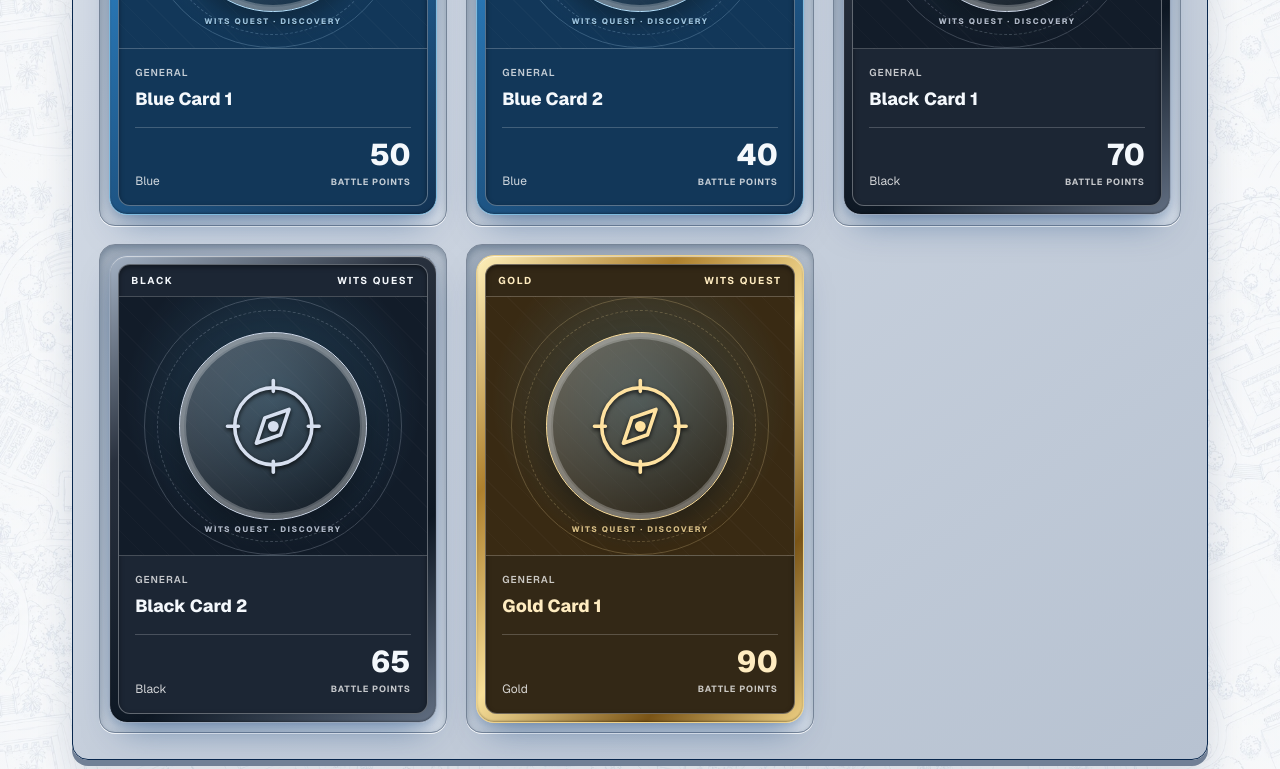
Test: handles matchmaking errors gracefully when start fails
(page scrolled)
Expected: the heading "Gold Card 1" is shown, [502,594,602,617]
Step 1. Click the button "Gold Card 1" → (640, 489), box [476,255,804,722]
(page scrolled)
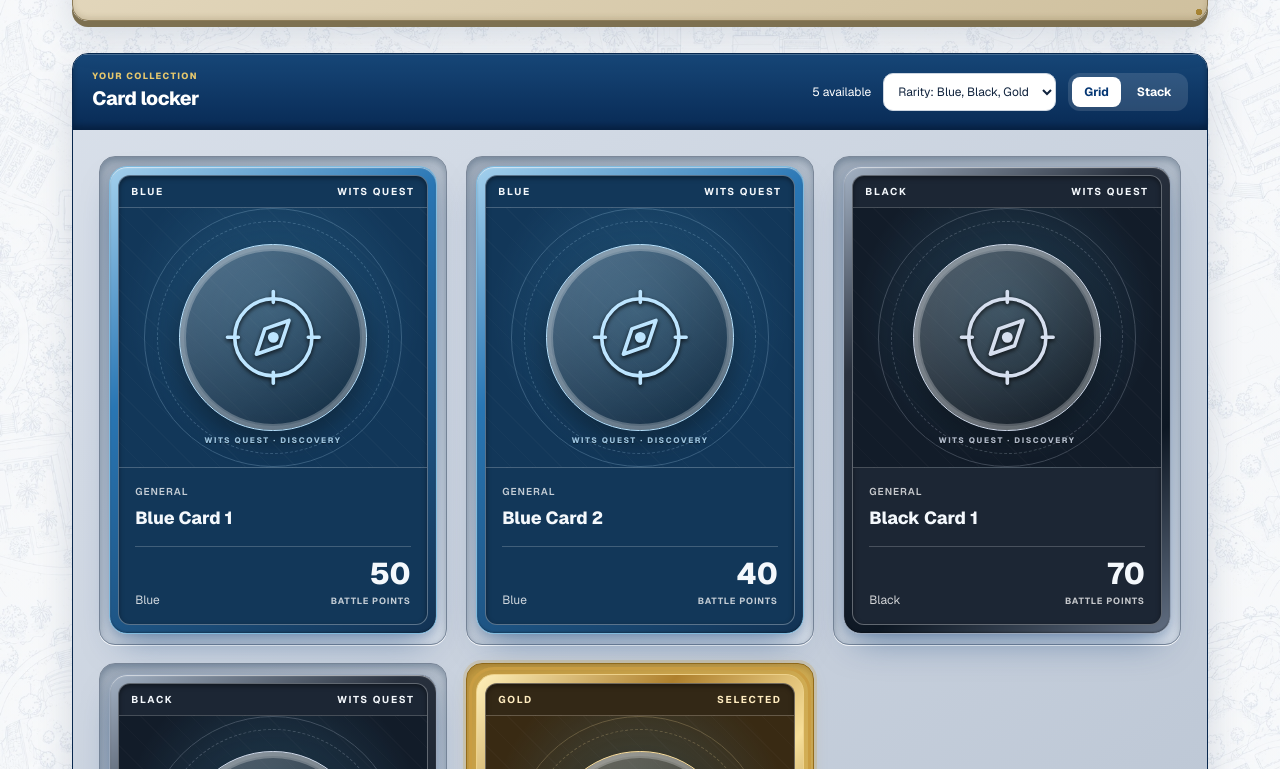
Step 2. Click the button "Black Card 1" → (1007, 400), box [843,166,1171,634]
(page scrolled)
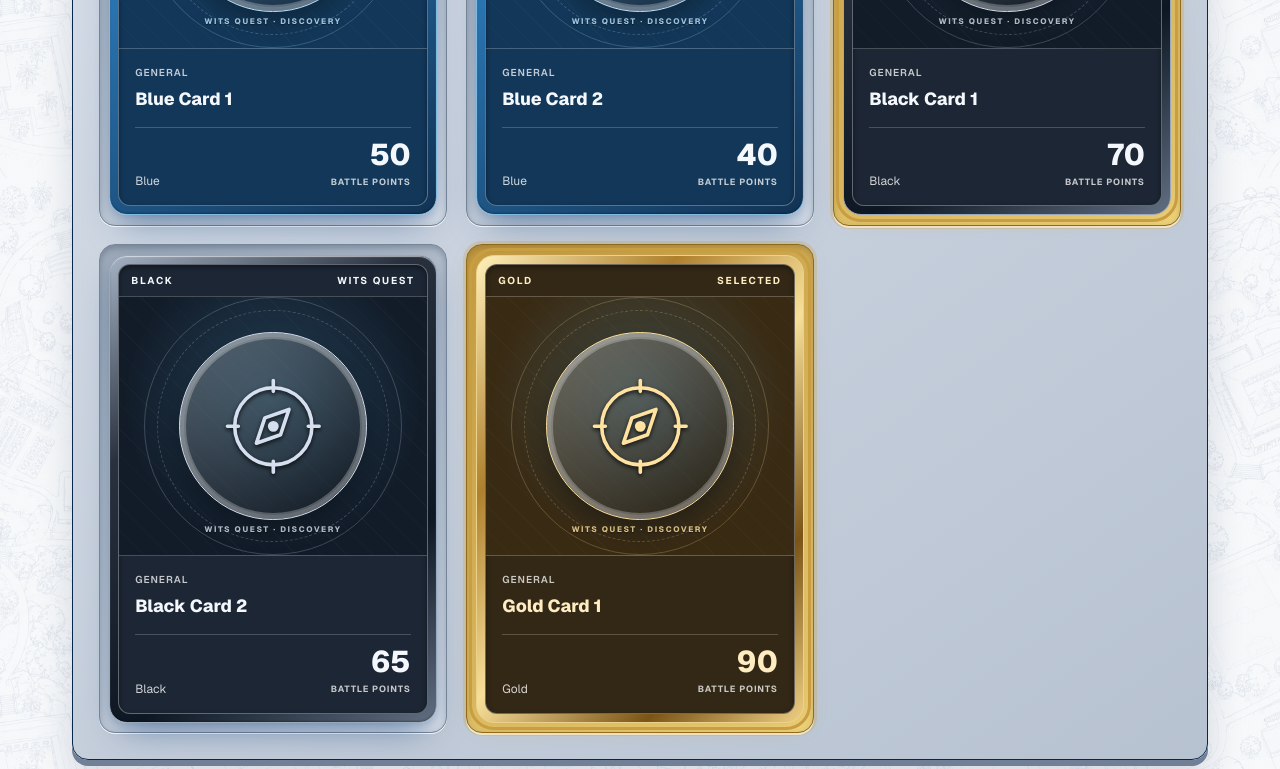
Step 3. Click the button "Black Card 2" → (273, 489), box [109,255,437,722]
(page scrolled)
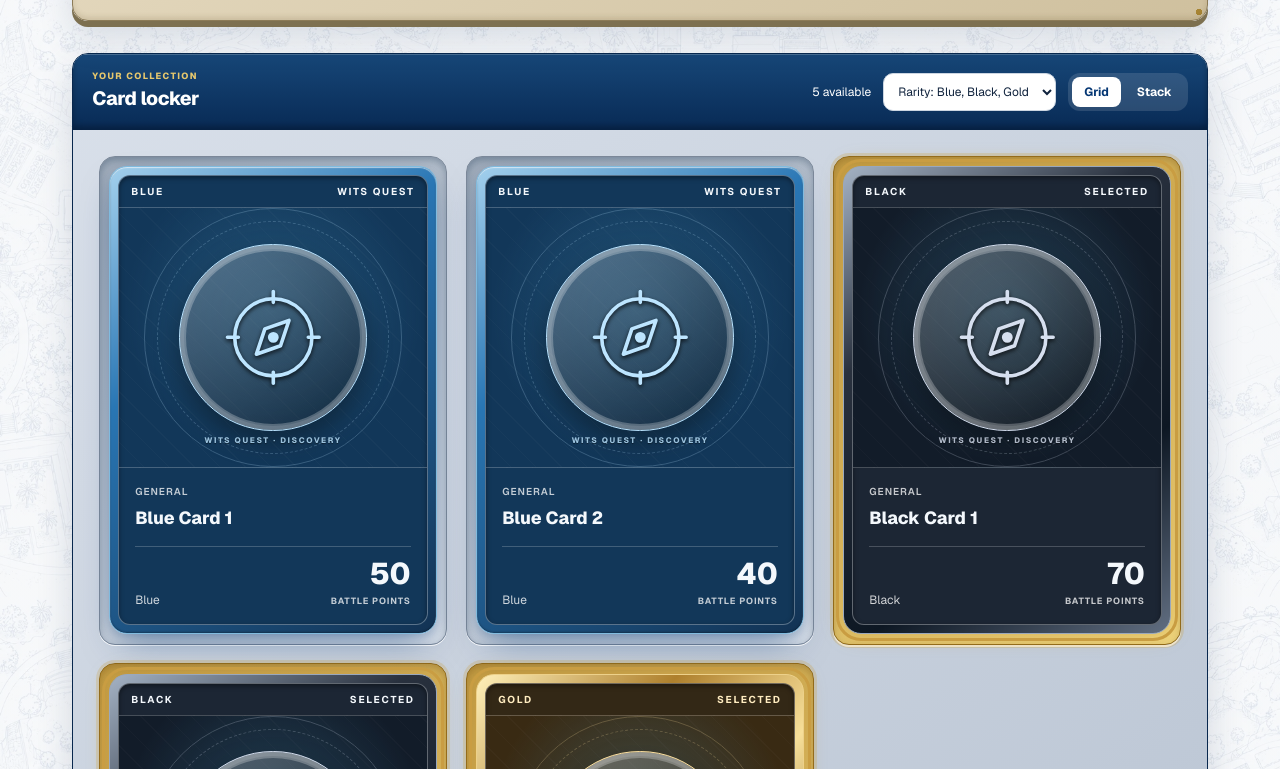
Step 4. Click the button "Blue Card 1" → (273, 400), box [109,166,437,634]
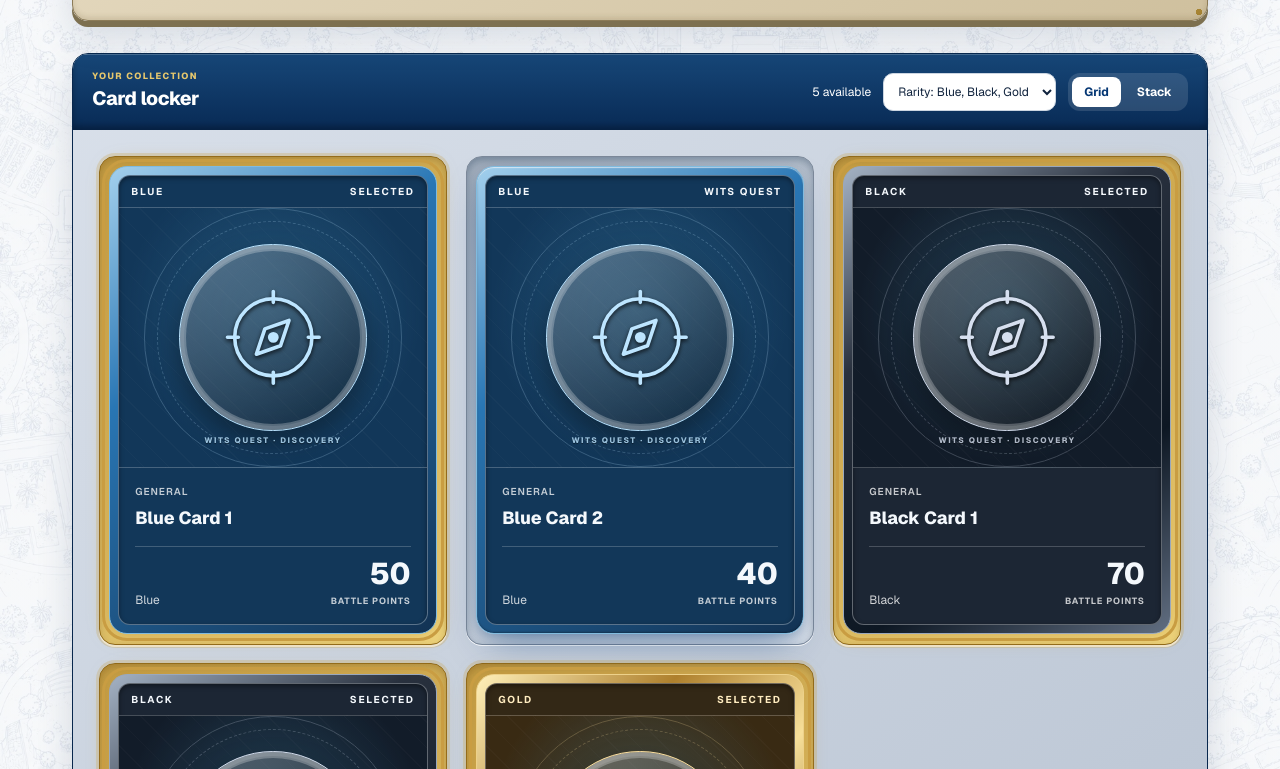
Step 5. Click the button "Blue Card 2" → (640, 400), box [476,166,804,634]
(page scrolled)
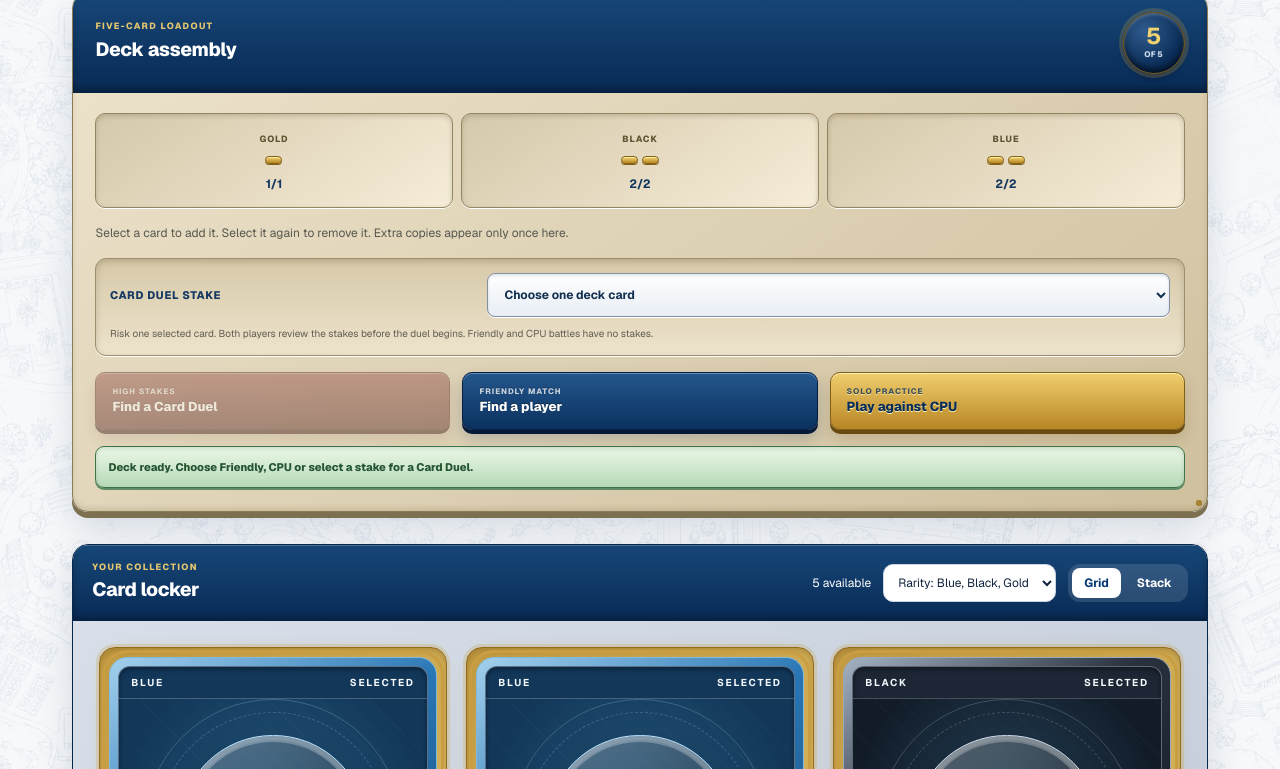
Step 6. Click the button "Friendly match Find a player" → (520, 391), box [462,372,818,430]
(page scrolled)
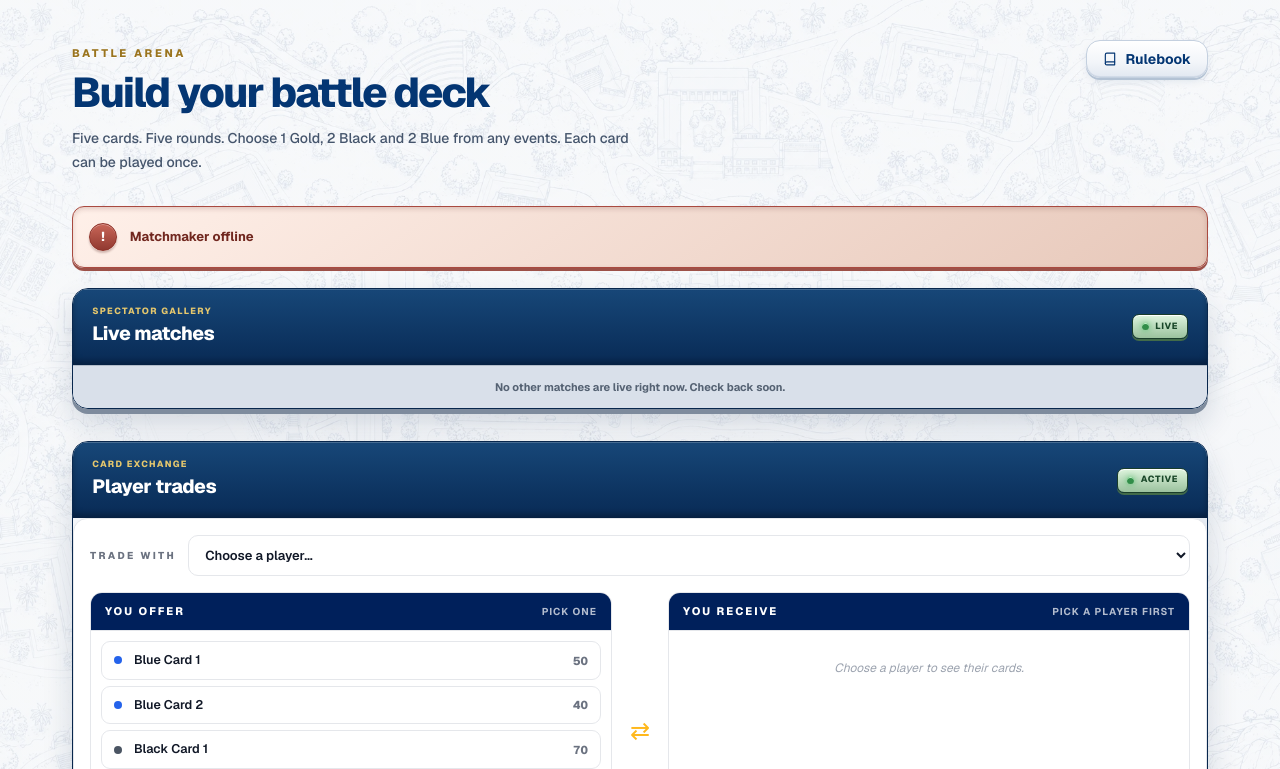
Now the message shows "Matchmaker offline", box [130,228,254,245]
